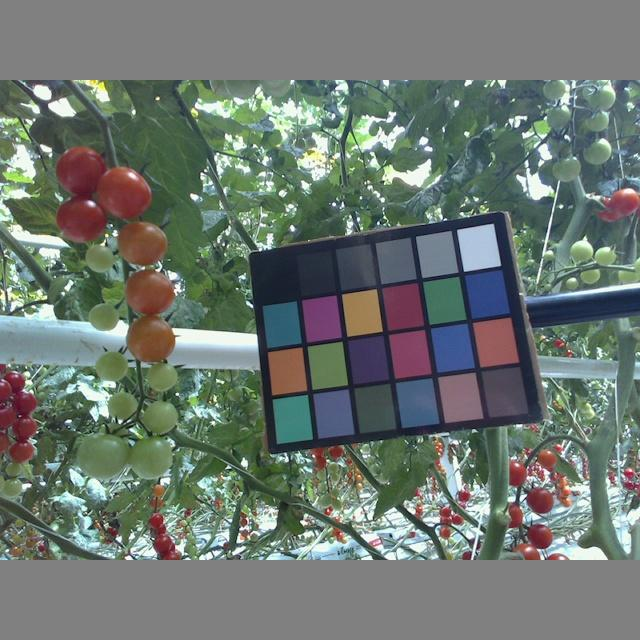green: (76, 432, 128, 478), (128, 435, 173, 480), (142, 400, 177, 436), (94, 350, 128, 382), (146, 360, 179, 392), (84, 241, 115, 272), (88, 299, 118, 330), (106, 391, 138, 420), (582, 137, 612, 164), (553, 154, 580, 183), (545, 105, 573, 130), (585, 86, 615, 109), (592, 243, 617, 266), (570, 240, 593, 263), (585, 109, 608, 131), (580, 263, 603, 285), (1, 477, 25, 497), (544, 81, 566, 102), (4, 458, 19, 475)
pink: (97, 165, 153, 220), (55, 147, 108, 199), (122, 268, 173, 316), (56, 195, 105, 244), (125, 316, 174, 363), (118, 222, 167, 267), (525, 486, 556, 514), (611, 187, 639, 215), (525, 523, 550, 548), (504, 461, 528, 485), (539, 449, 557, 467)
red: (11, 389, 36, 415), (8, 441, 35, 464), (11, 415, 37, 438)
